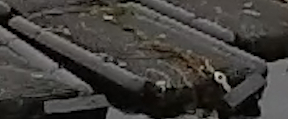bag: (6, 1, 266, 97)
